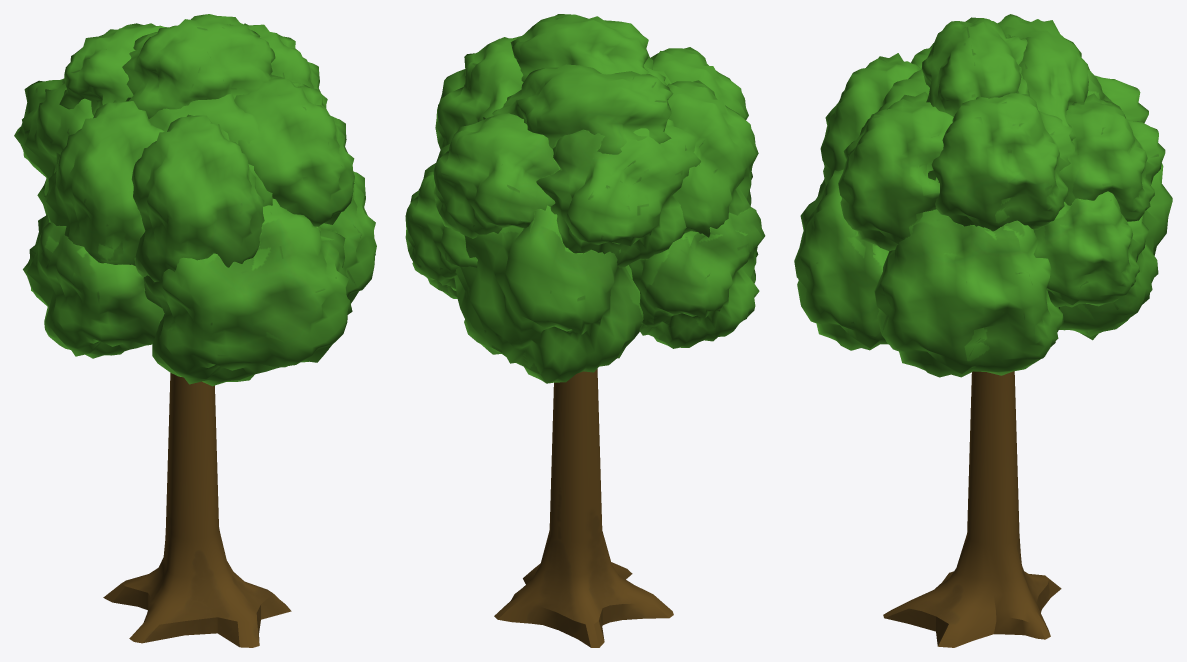
The model's file is TREE01.fbx.
The picture shows the model from 3 angles, left to right: view 1: azimuth 30°, elevation 25°; view 2: azimuth 150°, elevation 25°; view 3: azimuth 270°, elevation 25°; orthographic projection.
Visible parts, largest first — view 1: 1, Cylinder; view 2: 1, Cylinder; view 3: 1, Cylinder.
Part boxes in pixels (box(x1,y1,x2,y2)): 1: box(14, 14, 376, 386); Cylinder: box(103, 373, 291, 647); 1: box(405, 14, 765, 383); Cylinder: box(494, 368, 673, 647); 1: box(794, 14, 1172, 377); Cylinder: box(883, 371, 1061, 647).
Bounding box in the file's own units: 82.09 × 145 × 85.07.
2 materials, 2 textured.
